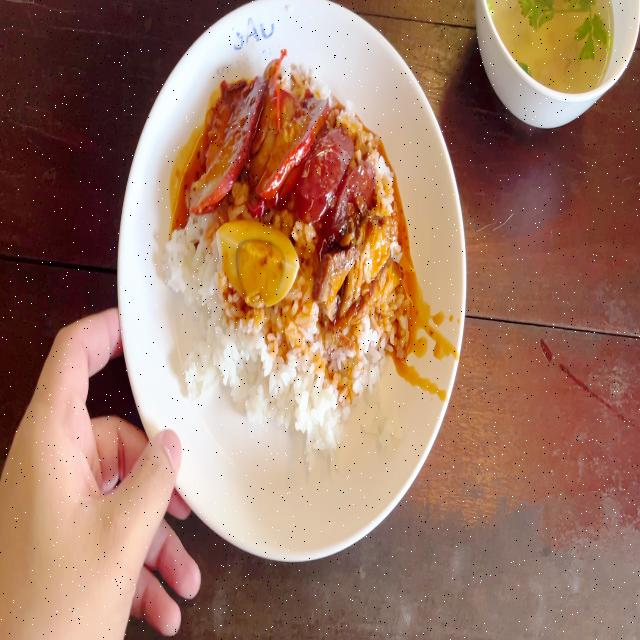boiled_egg: (222, 233, 293, 305)
chainese_sausage: (309, 121, 373, 235)
crispy_pork: (316, 240, 412, 312)
red_pork: (195, 76, 312, 186)
red_pork_and_crispy_pork: (185, 94, 411, 432)
rice: (180, 222, 223, 396), (244, 308, 312, 418), (305, 338, 370, 450)
